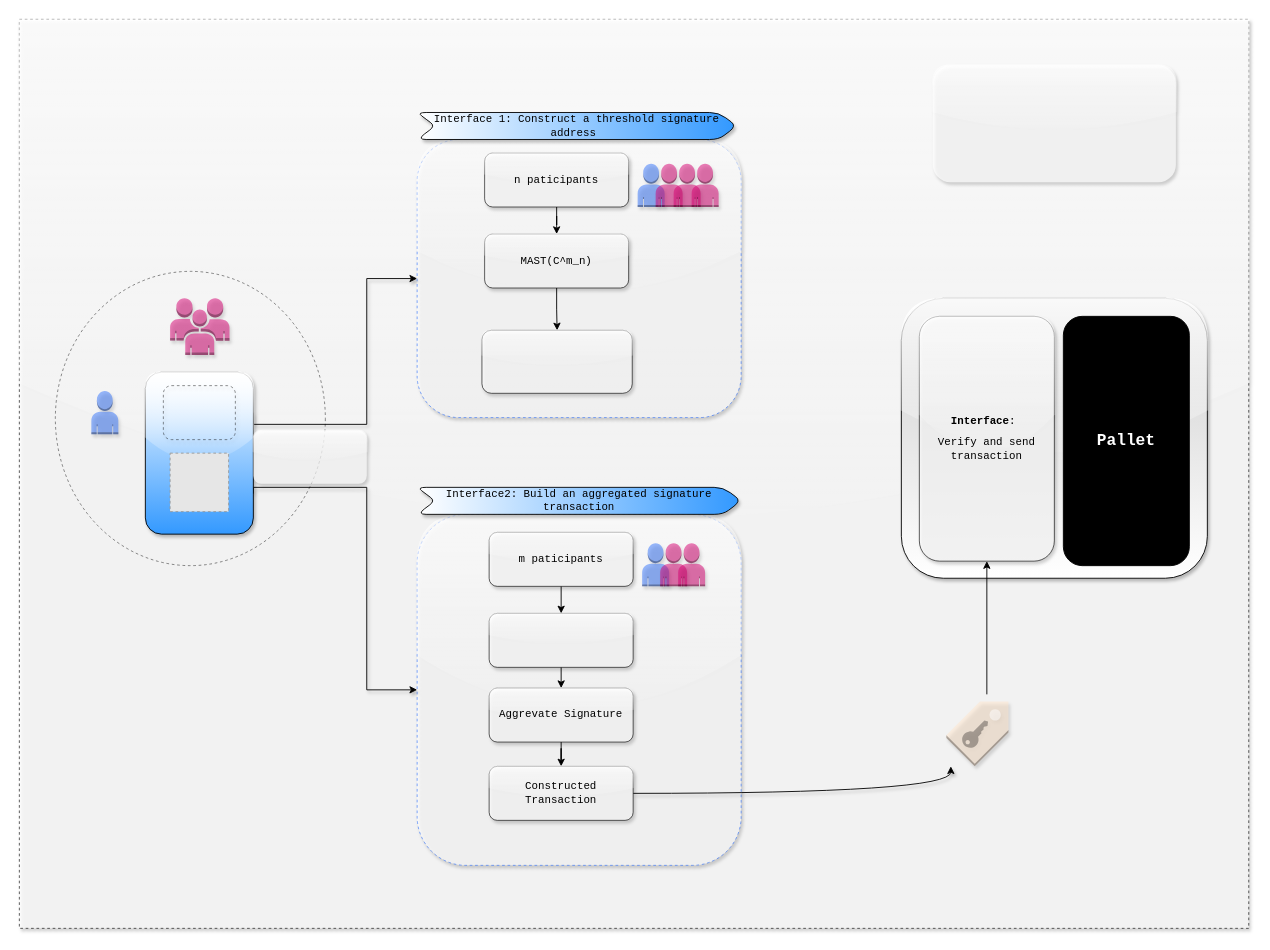
Some shapes in this 1270 by 950 pixel diagram are drawn without their labels. Grey dashed boxes stand in for pictures. Each missing label, with the centre of its shape:
Construct a threshold signature address: the point at 557,363
Group: the point at 200,413
m / n: the point at 310,458
Musig2: the point at 562,641
Threshold Signature: the point at 1055,124
